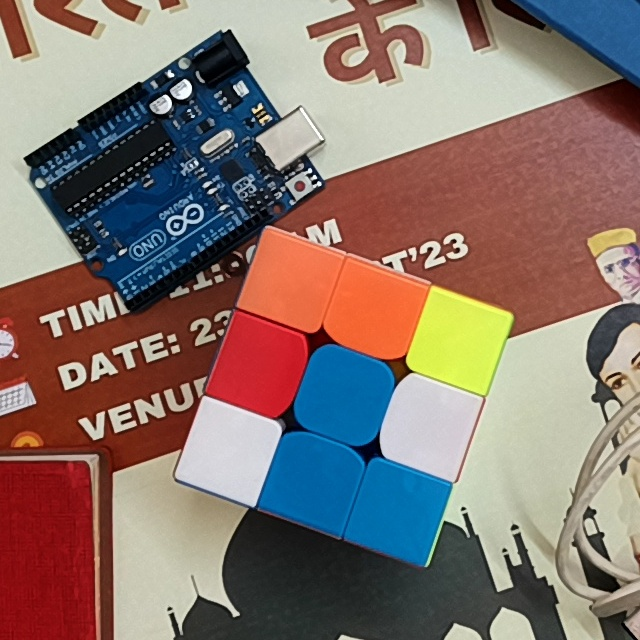tile: (314, 359, 379, 428), (398, 390, 460, 459), (281, 450, 345, 515), (369, 478, 429, 545), (225, 334, 288, 397), (198, 418, 259, 483), (341, 280, 405, 341), (427, 308, 489, 370), (262, 250, 324, 311)
